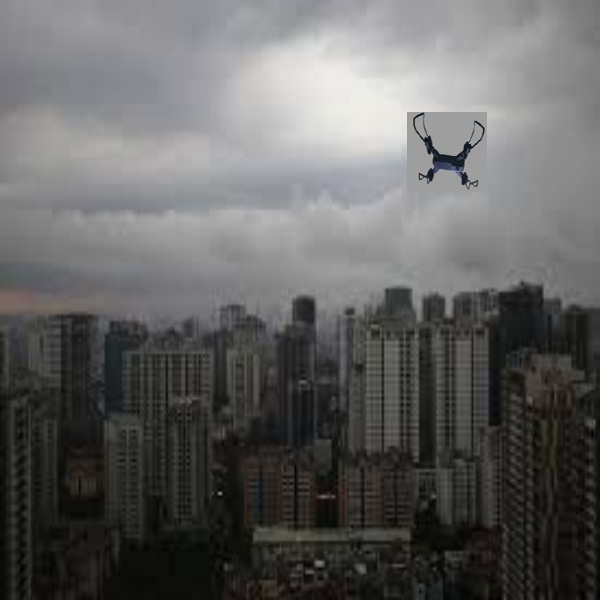drone: (407, 113, 485, 189)
